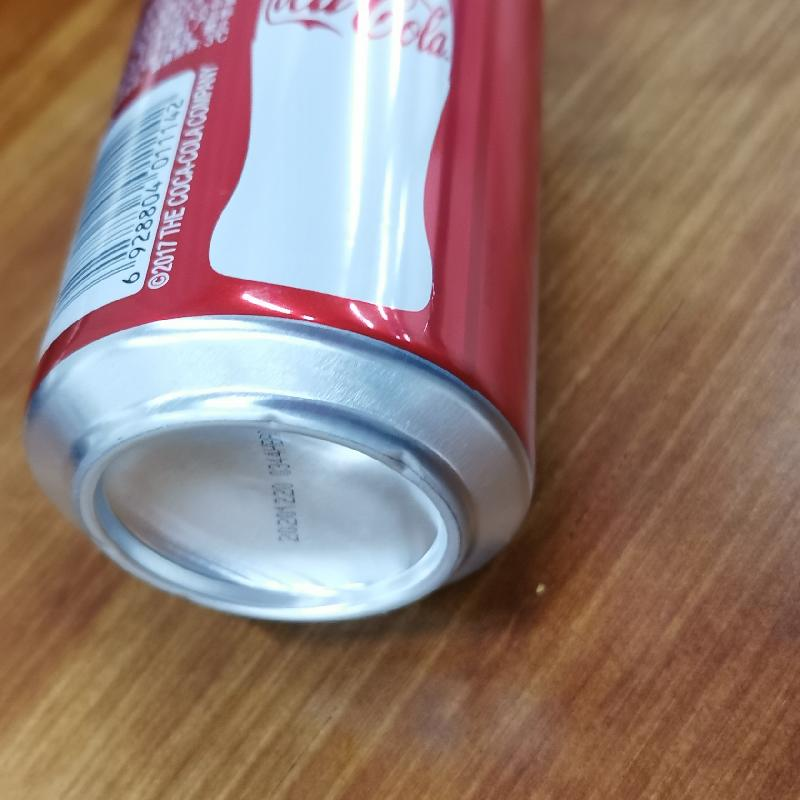cans: (24, 0, 556, 630)
